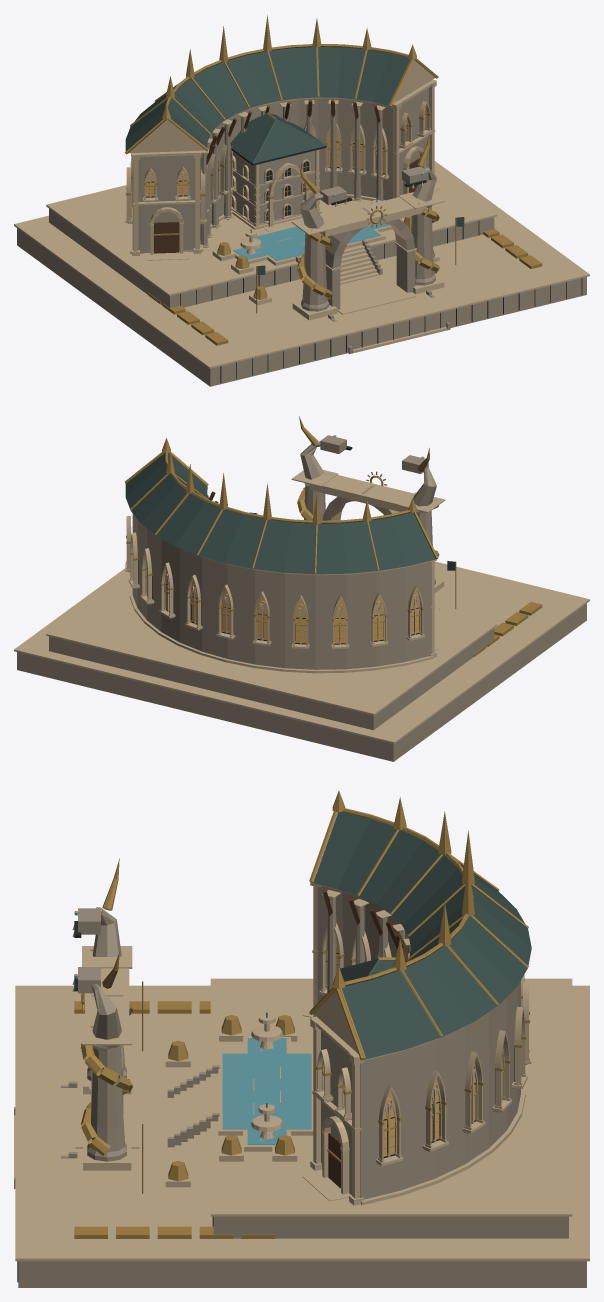
The model's file is dragon-court.glb.
The picture shows the model from 3 angles, top to bottom: view 1: azimuth 30°, elevation 25°; view 2: azimuth 150°, elevation 25°; view 3: azimuth 270°, elevation 25°; orthographic projection. The views are drawn at different scales.
Parts seen in each view (by area): view 1: scaled-terraces, long-hall, long-hall-roof, wyrm-gate, hoard-court; view 2: scaled-terraces, long-hall, long-hall-roof, wyrm-gate; view 3: scaled-terraces, long-hall, long-hall-roof, wyrm-gate, hoard-court.
Part boxes in pixels (bbox=[...]): scaled-terraces: bbox=[14, 161, 589, 386]; long-hall: bbox=[125, 79, 438, 260]; long-hall-roof: bbox=[125, 14, 438, 165]; wyrm-gate: bbox=[291, 132, 445, 320]; hoard-court: bbox=[212, 198, 464, 313]; scaled-terraces: bbox=[14, 561, 589, 761]; long-hall: bbox=[125, 491, 438, 673]; long-hall-roof: bbox=[124, 438, 438, 574]; wyrm-gate: bbox=[291, 416, 445, 592]; scaled-terraces: bbox=[14, 978, 589, 1287]; long-hall: bbox=[302, 877, 531, 1205]; long-hall-roof: bbox=[309, 790, 531, 1059]; wyrm-gate: bbox=[72, 858, 139, 1170]; hoard-court: bbox=[142, 981, 313, 1193].
Size of the model in its own units: 36.35 by 19.11 by 32.42.
